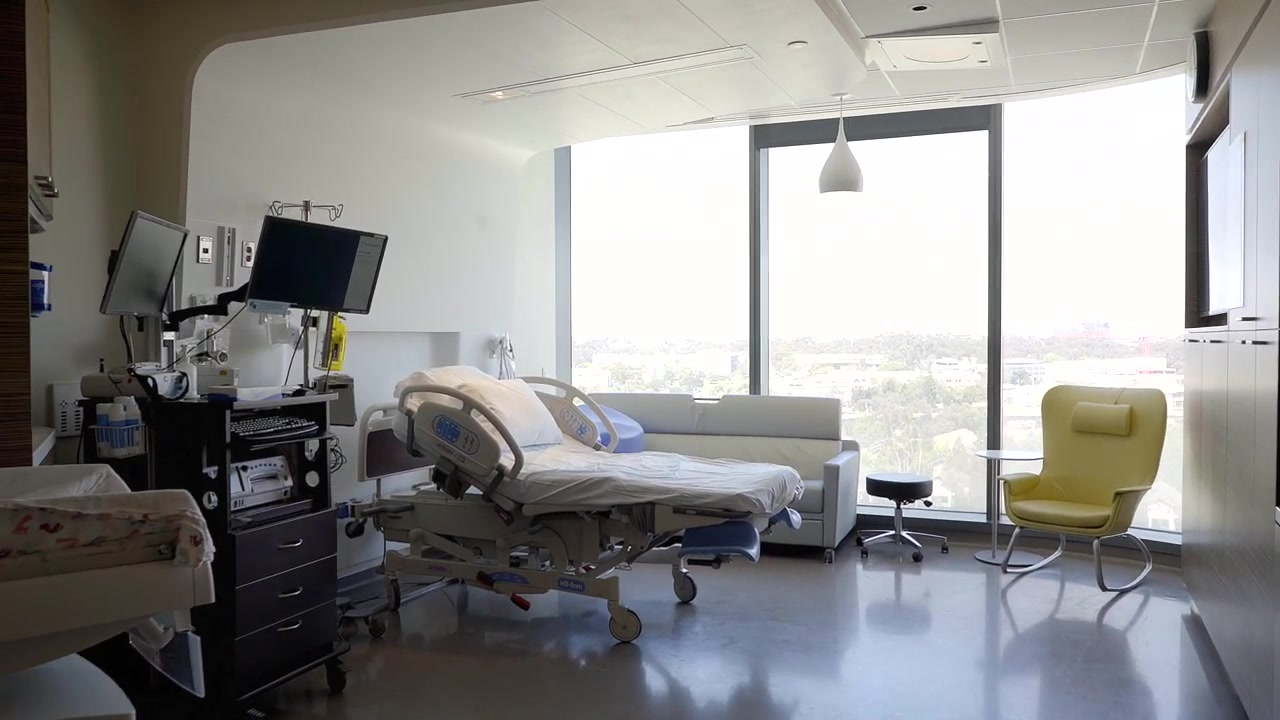TV: (1195, 122, 1234, 318)
bedrail: (396, 382, 527, 482), (509, 374, 621, 456)
chair: (994, 382, 1170, 595), (854, 470, 950, 564)
computer: (243, 212, 390, 316), (98, 208, 192, 321)
handle: (276, 619, 303, 632), (278, 586, 303, 599), (1234, 337, 1267, 346), (276, 539, 303, 550), (34, 174, 55, 188), (1199, 336, 1223, 346), (41, 187, 60, 199), (1180, 336, 1200, 345), (1234, 316, 1250, 322)
hospital_bed: (343, 362, 807, 645)
iv_pole: (268, 197, 345, 391)
keyboard: (228, 413, 321, 445)
medical_drawer: (174, 473, 353, 703)
mouse: (295, 387, 316, 396)
sofa: (583, 390, 863, 566)
table: (972, 448, 1046, 570)
